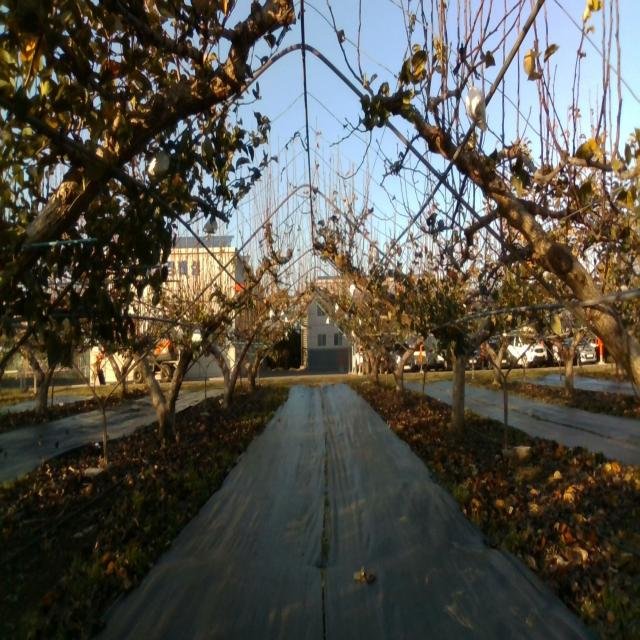pearbags: (466, 85, 486, 132), (146, 151, 169, 177), (202, 217, 218, 235)
